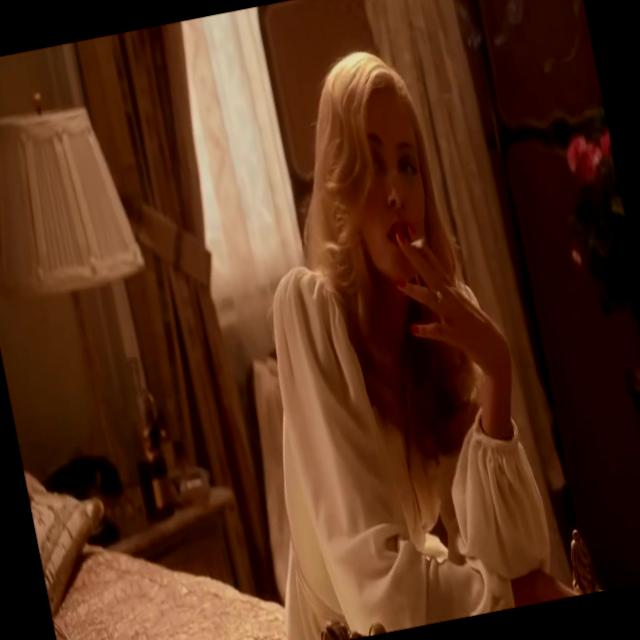cigarette: (410, 230, 431, 262)
